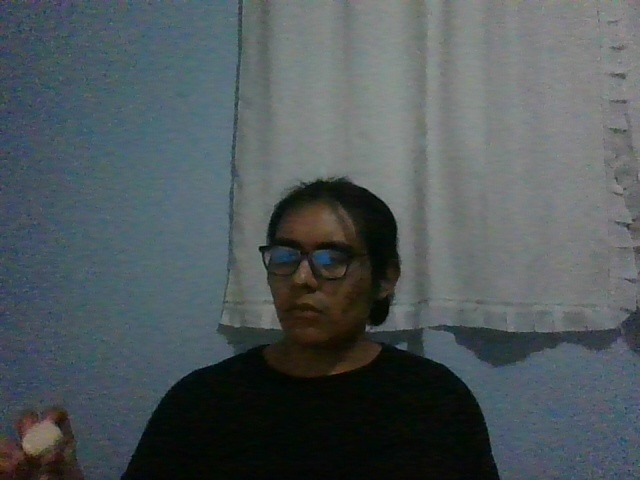goma: (20, 421, 64, 457)
